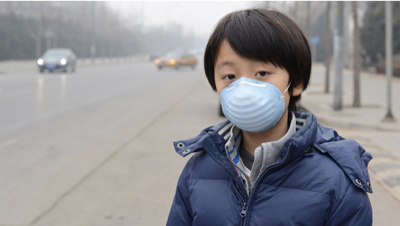with_mask: (214, 54, 291, 132)
